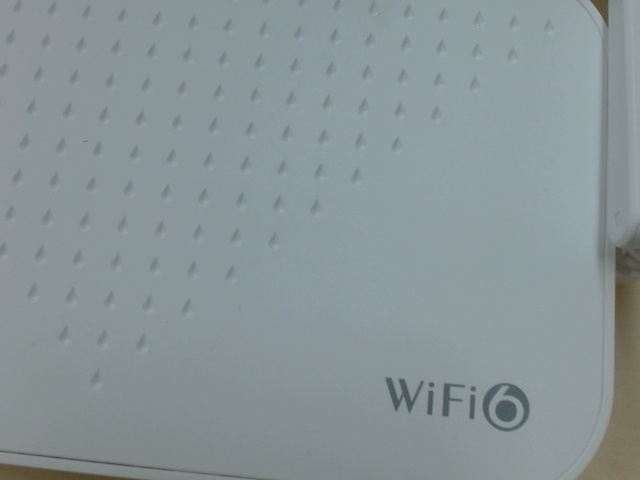AK_ZTEWIFI6: (374, 362, 539, 435)
